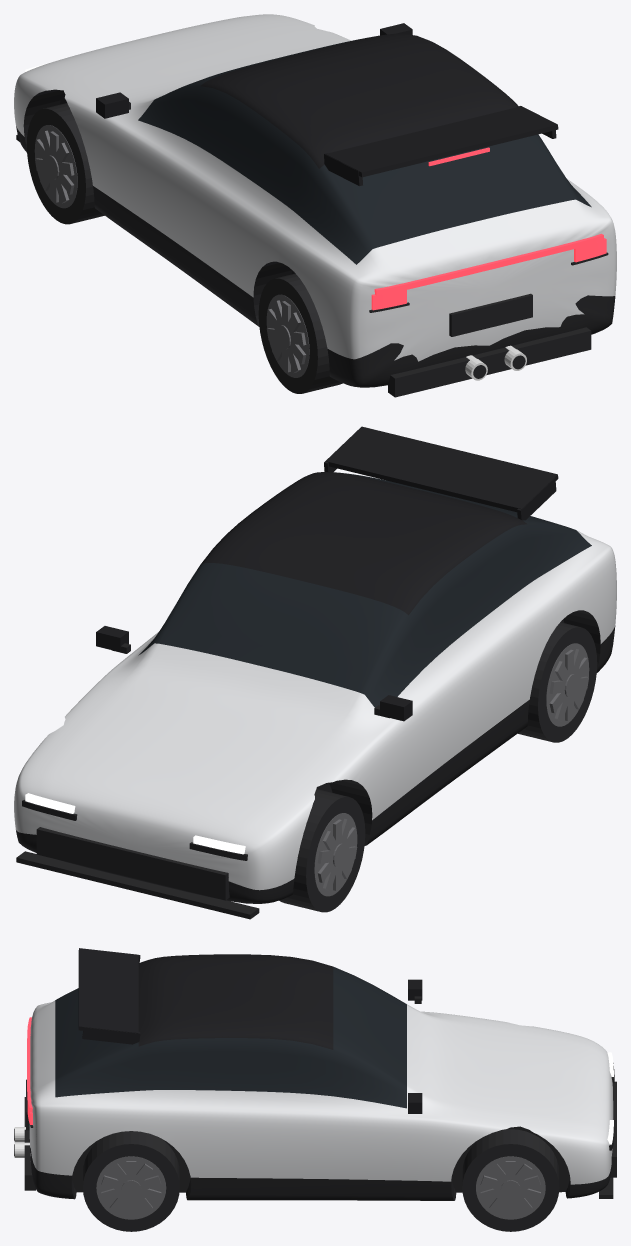
The model's file is compacto.glb.
The picture shows the model from 3 angles, top to bottom: view 1: azimuth 30°, elevation 25°; view 2: azimuth 150°, elevation 25°; view 3: azimuth 270°, elevation 25°; orthographic projection. The views are drawn at different scales.
Parts seen in each view (by area): view 1: carroceria, det_st_techo, det_st_plastico, rueda_TI, rueda_DI, det_st_luz_roja, det_st_cromo; view 2: carroceria, det_st_techo, det_st_plastico, rueda_DI, rueda_TI, det_st_luz_blanca; view 3: carroceria, rueda_DD, rueda_TD, det_st_techo, det_st_plastico, det_st_luz_roja.
Part boxes in pixels (left/top/right/bottom): carroceria: left=14, top=14, right=616, bottom=387; det_st_techo: left=96, top=23, right=558, bottom=186; det_st_plastico: left=16, top=102, right=608, bottom=397; rueda_TI: left=258, top=273, right=342, bottom=393; rueda_DI: left=26, top=103, right=104, bottom=224; det_st_luz_roja: left=371, top=147, right=606, bottom=310; det_st_cromo: left=465, top=345, right=526, bottom=380; carroceria: left=14, top=472, right=616, bottom=903; det_st_techo: left=96, top=426, right=558, bottom=721; det_st_plastico: left=16, top=643, right=389, bottom=919; rueda_DI: left=279, top=789, right=365, bottom=912; rueda_TI: left=518, top=622, right=597, bottom=742; det_st_luz_blanca: left=25, top=793, right=245, bottom=854; carroceria: left=29, top=954, right=613, bottom=1200; rueda_DD: left=462, top=1129, right=559, bottom=1231; rueda_TD: left=83, top=1131, right=179, bottom=1231; det_st_techo: left=78, top=948, right=422, bottom=1113; det_st_plastico: left=14, top=996, right=616, bottom=1198; det_st_luz_roja: left=27, top=1017, right=32, bottom=1124.
Size of the model in its own units: 2.04 by 1.46 by 4.23.
